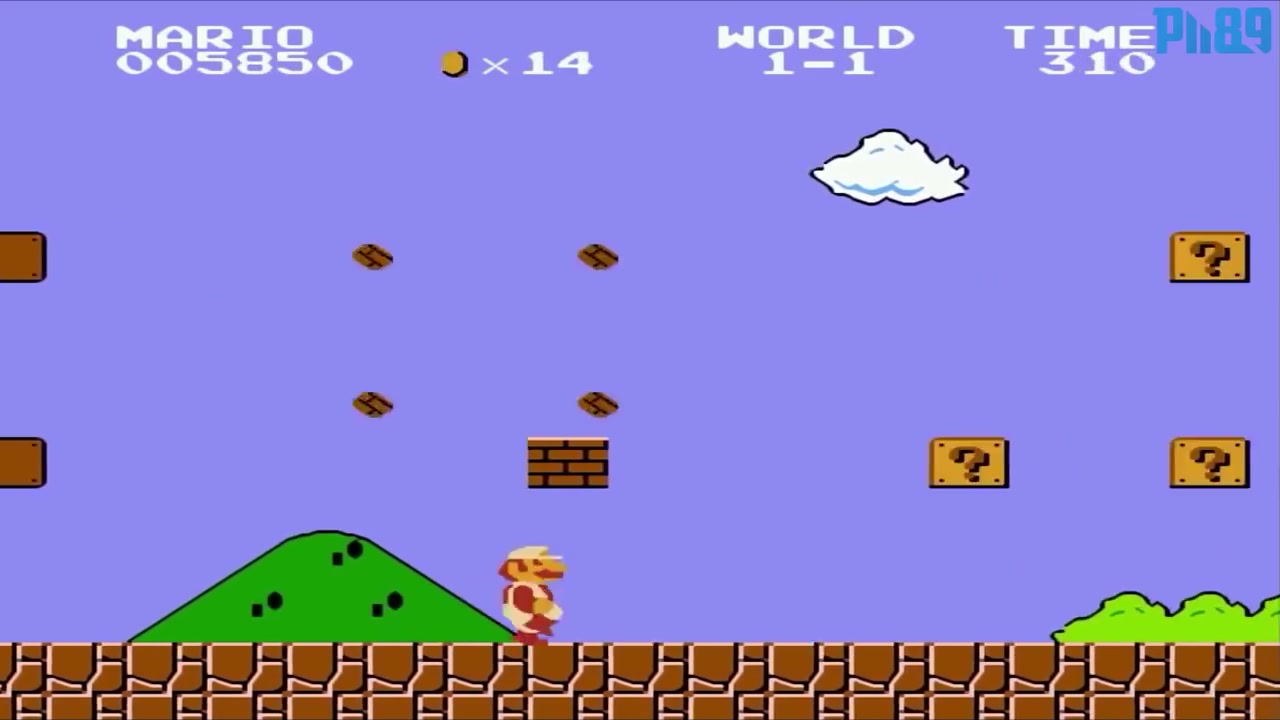mario: (493, 540, 576, 642)
